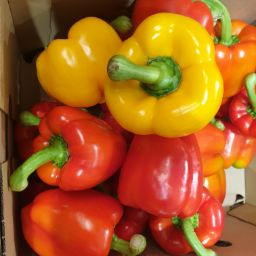Bell pepper: (15, 8, 256, 256), (93, 8, 229, 142), (22, 13, 120, 116), (23, 109, 123, 203), (118, 133, 211, 219), (38, 187, 135, 256)
